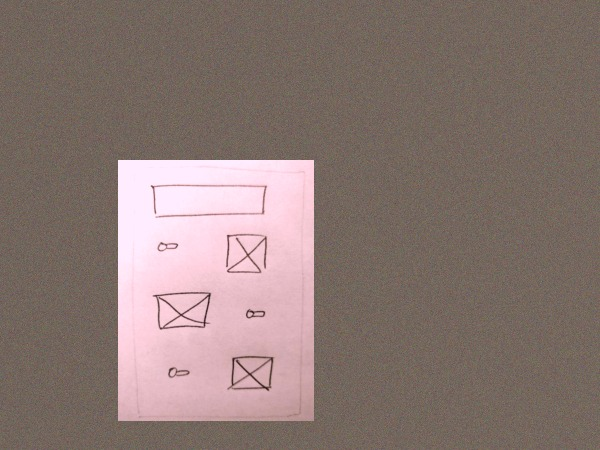image: (149, 289, 215, 334), (221, 229, 271, 277), (227, 354, 276, 394)
switch: (154, 236, 182, 255), (164, 364, 194, 381), (241, 306, 270, 322)
text_input: (148, 180, 271, 222)
